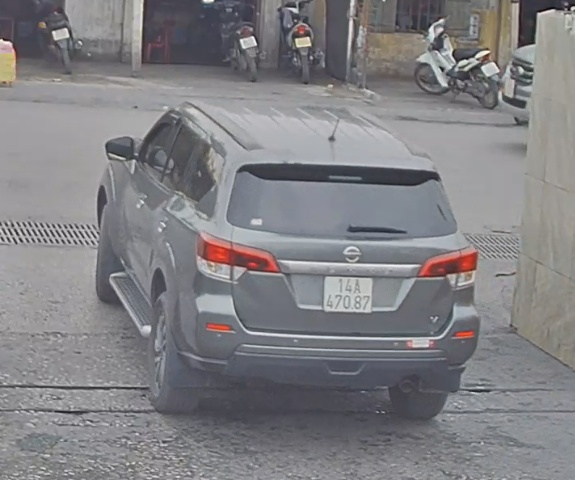vehicle plate: (322, 275, 374, 320)
